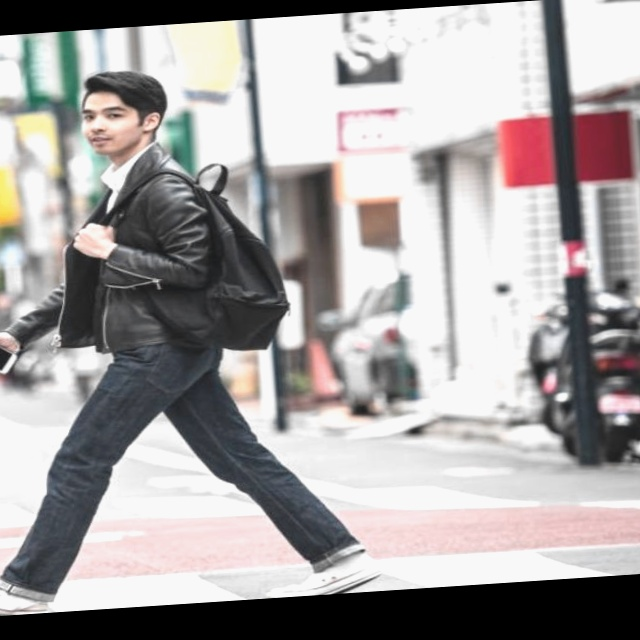Sin_Casco_Mascarrilla: (77, 66, 171, 159)
Sin_Chaleco: (77, 147, 232, 348)
